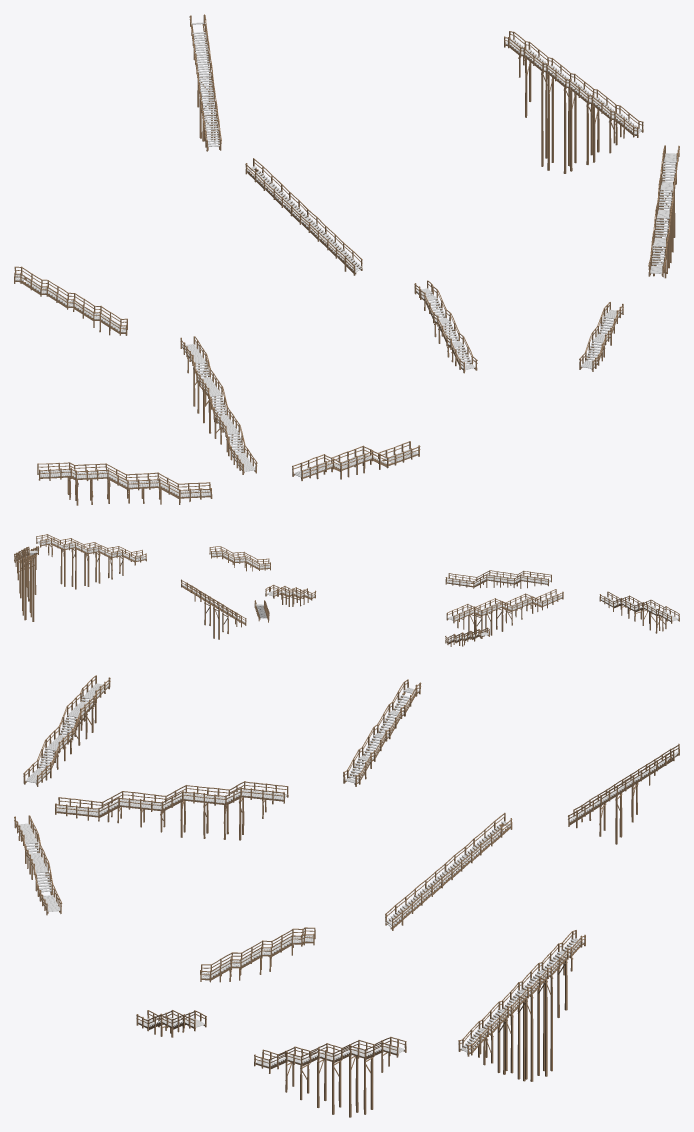
The model's file is structures_stairs.glb.
3 renders of one model, top to bottom at view 1: azimuth 30°, elevation 25°; view 2: azimuth 150°, elevation 25°; view 3: azimuth 270°, elevation 25°, orthographic. The views are drawn at different scales.
Parts seen in each view (by area): view 1: mid east to high east timber, low west to west shoulder timber, low west to mid north-west timber, mid north to high north timber, court to low west timber, low west to mid north-west plank_walk, low north-east to mid east plank_walk, low north-east to mid east timber, mid north-west to high west timber, high north to summit ledge (capilla) plank_walk, high north to summit ledge (capilla) timber, court to mid north timber (+5 smaller); view 2: low north-east to mid east timber, low west to mid north-west timber, mid east to high east timber, low west to west shoulder timber, court to low west timber, high north to summit ledge (capilla) timber, court to low north-east timber, court to mid north timber, low west to mid north-west plank_walk, court to low west plank_walk, low north-east to mid east plank_walk, mid north-west to high west timber (+2 smaller); view 3: mid east to high east timber, low west to mid north-west timber, low north-east to mid east timber, high north to summit ledge (capilla) timber, low west to west shoulder timber, mid north to high north timber, court to mid north timber, mid north-west to high west timber, low west to mid north-west plank_walk, mid east to high east plank_walk, low west to west shoulder plank_walk, mid north to high north plank_walk (+6 smaller).
Boxes of the visible parts, bbox=[...] form: mid east to high east timber: bbox=[504, 31, 643, 173]; low west to west shoulder timber: bbox=[37, 462, 212, 505]; low west to mid north-west timber: bbox=[180, 336, 257, 474]; mid north to high north timber: bbox=[245, 158, 362, 275]; court to low west timber: bbox=[292, 441, 420, 480]; low west to mid north-west plank_walk: bbox=[182, 344, 255, 471]; low north-east to mid east plank_walk: bbox=[650, 153, 676, 273]; low north-east to mid east timber: bbox=[648, 145, 679, 278]; mid north-west to high west timber: bbox=[14, 266, 127, 335]; high north to summit ledge (capilla) plank_walk: bbox=[191, 22, 219, 146]; high north to summit ledge (capilla) timber: bbox=[189, 14, 221, 151]; court to mid north timber: bbox=[414, 280, 477, 373]; low north-east to mid east timber: bbox=[36, 534, 146, 589]; low west to mid north-west timber: bbox=[446, 589, 563, 641]; mid east to high east timber: bbox=[14, 546, 39, 621]; low west to west shoulder timber: bbox=[599, 591, 679, 633]; court to low west timber: bbox=[445, 570, 551, 588]; high north to summit ledge (capilla) timber: bbox=[181, 579, 246, 639]; court to low north-east timber: bbox=[209, 546, 270, 571]; court to mid north timber: bbox=[265, 584, 316, 606]; low west to mid north-west plank_walk: bbox=[447, 594, 562, 620]; court to low west plank_walk: bbox=[446, 575, 550, 585]; low north-east to mid east plank_walk: bbox=[37, 539, 145, 560]; mid north-west to high west timber: bbox=[445, 627, 489, 646]; mid east to high east timber: bbox=[458, 930, 585, 1081]; low west to mid north-west timber: bbox=[55, 781, 288, 840]; low north-east to mid east timber: bbox=[254, 1036, 406, 1117]; high north to summit ledge (capilla) timber: bbox=[568, 743, 679, 844]; low west to west shoulder timber: bbox=[23, 675, 110, 786]; mid north to high north timber: bbox=[385, 812, 512, 930]; court to mid north timber: bbox=[200, 927, 315, 982]; mid north-west to high west timber: bbox=[343, 679, 421, 786]; low west to mid north-west plank_walk: bbox=[56, 789, 287, 815]; mid east to high east plank_walk: bbox=[460, 938, 584, 1052]; low west to west shoulder plank_walk: bbox=[25, 683, 108, 783]; mid north to high north plank_walk: bbox=[385, 821, 510, 927].
Size of the model in its own units: 108 by 26.68 by 76.3.
